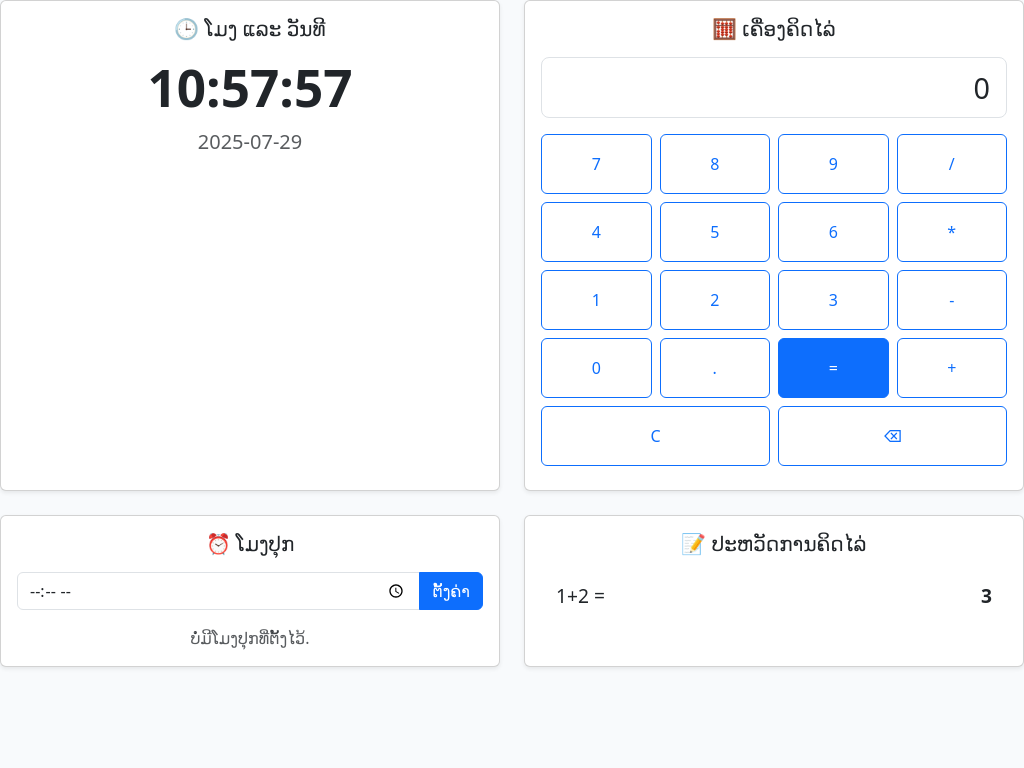
Test case: CalculatorClockAlarm › clears the calculation
What coordinates should you click on to do the following:
click the button with test id "btn-1"
I would click on:
 (596, 300)
Its box is [541,270,652,330].
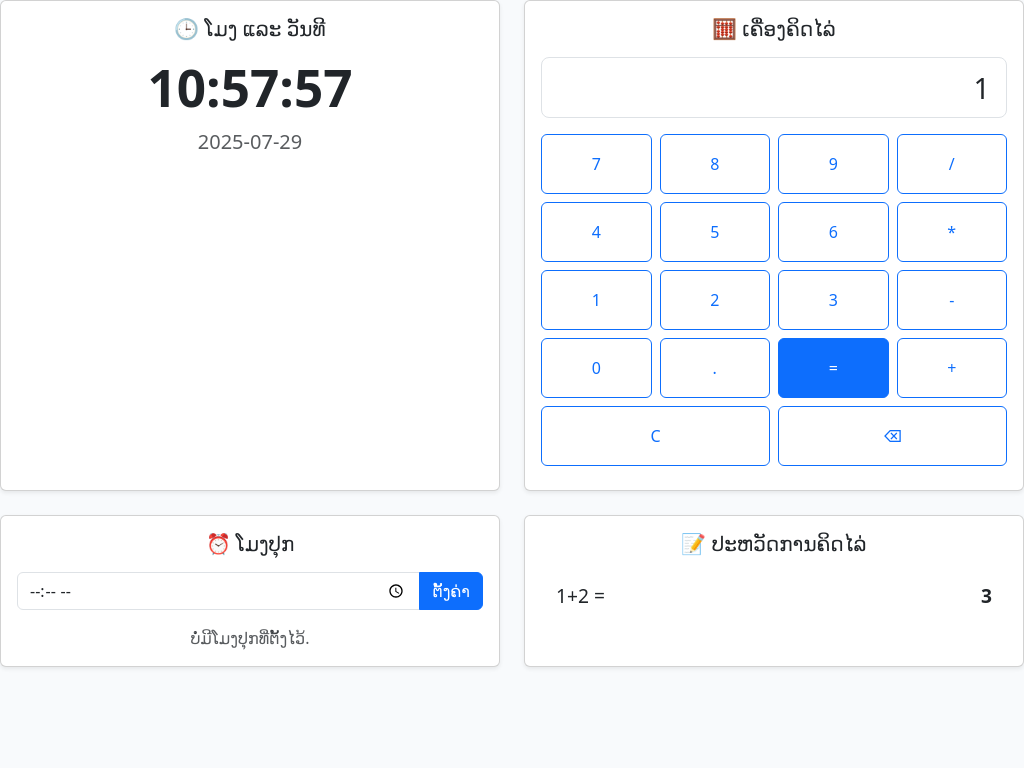
What coordinates should you click on to do the following:
click the button with test id "btn-+"
I would click on:
 (952, 368)
Its box is [896,338,1007,398].
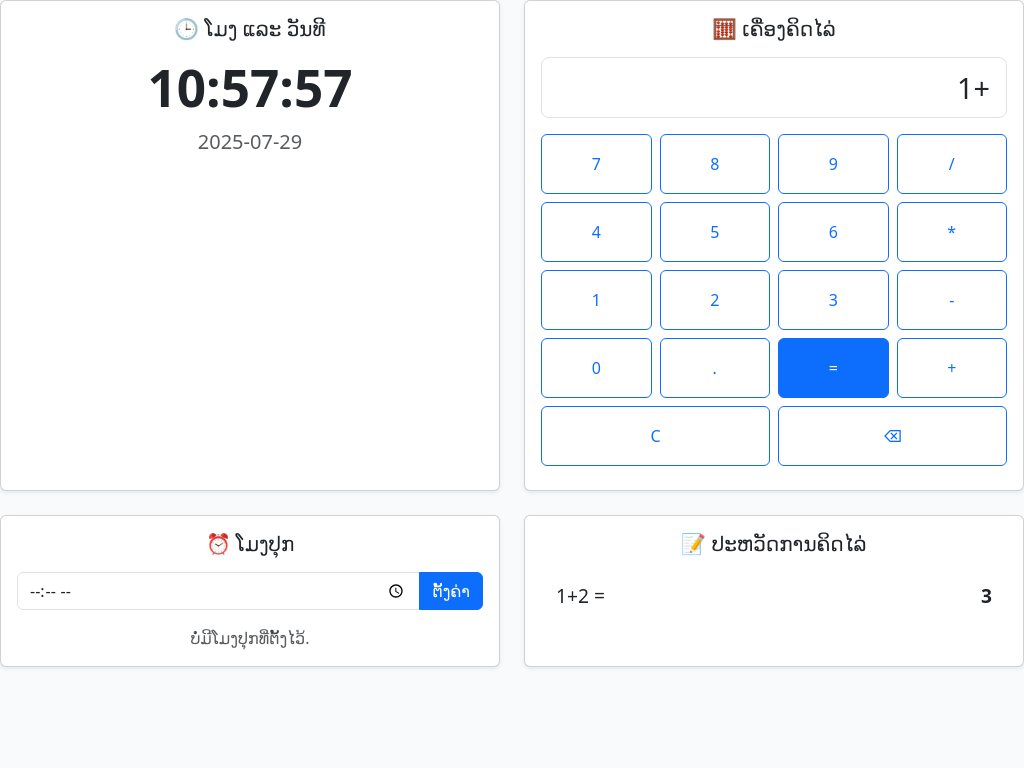
What coordinates should you click on to do the following:
click the button with test id "btn-2"
I would click on:
 (715, 300)
Its box is [660,270,770,330].
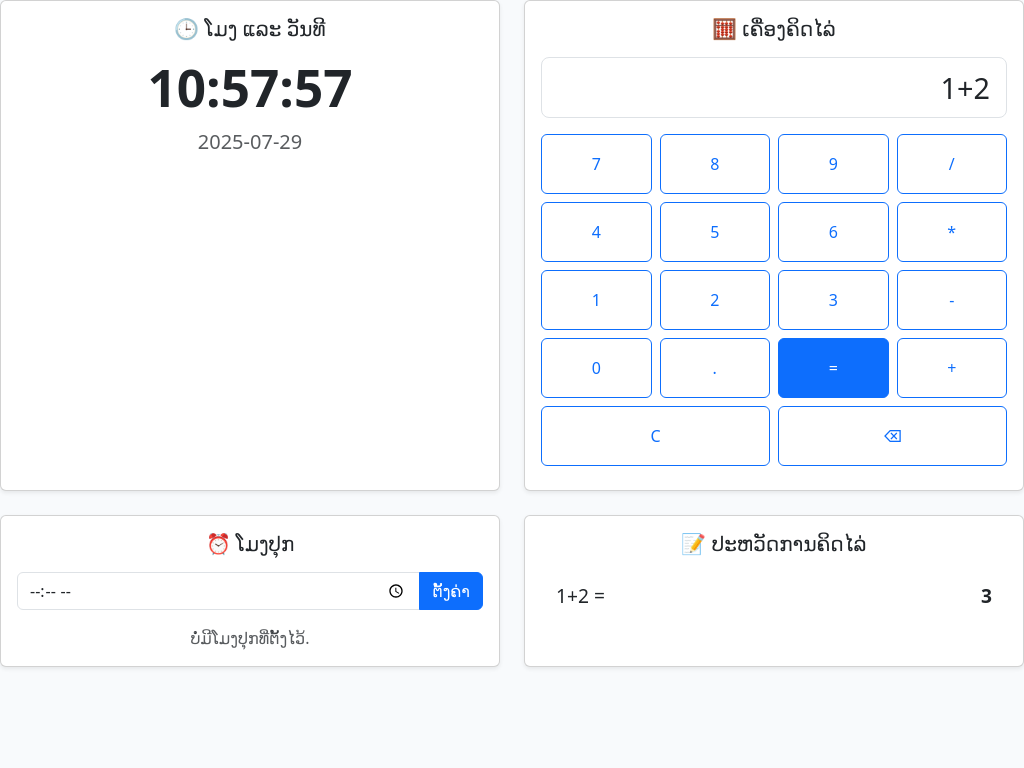
What coordinates should you click on to do the following:
click the button with test id "btn-C"
I would click on:
 (656, 436)
Its box is [541,406,770,466].
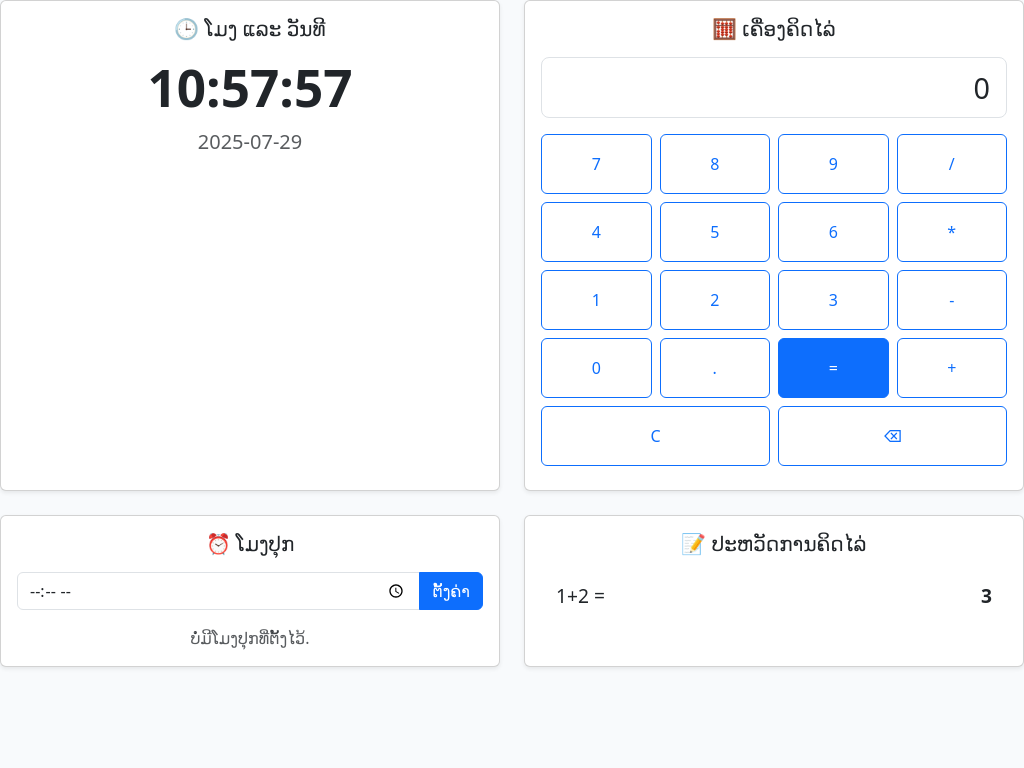
expect the text with test id "calc-display" reads "0": met, box [974,68,990,107]
